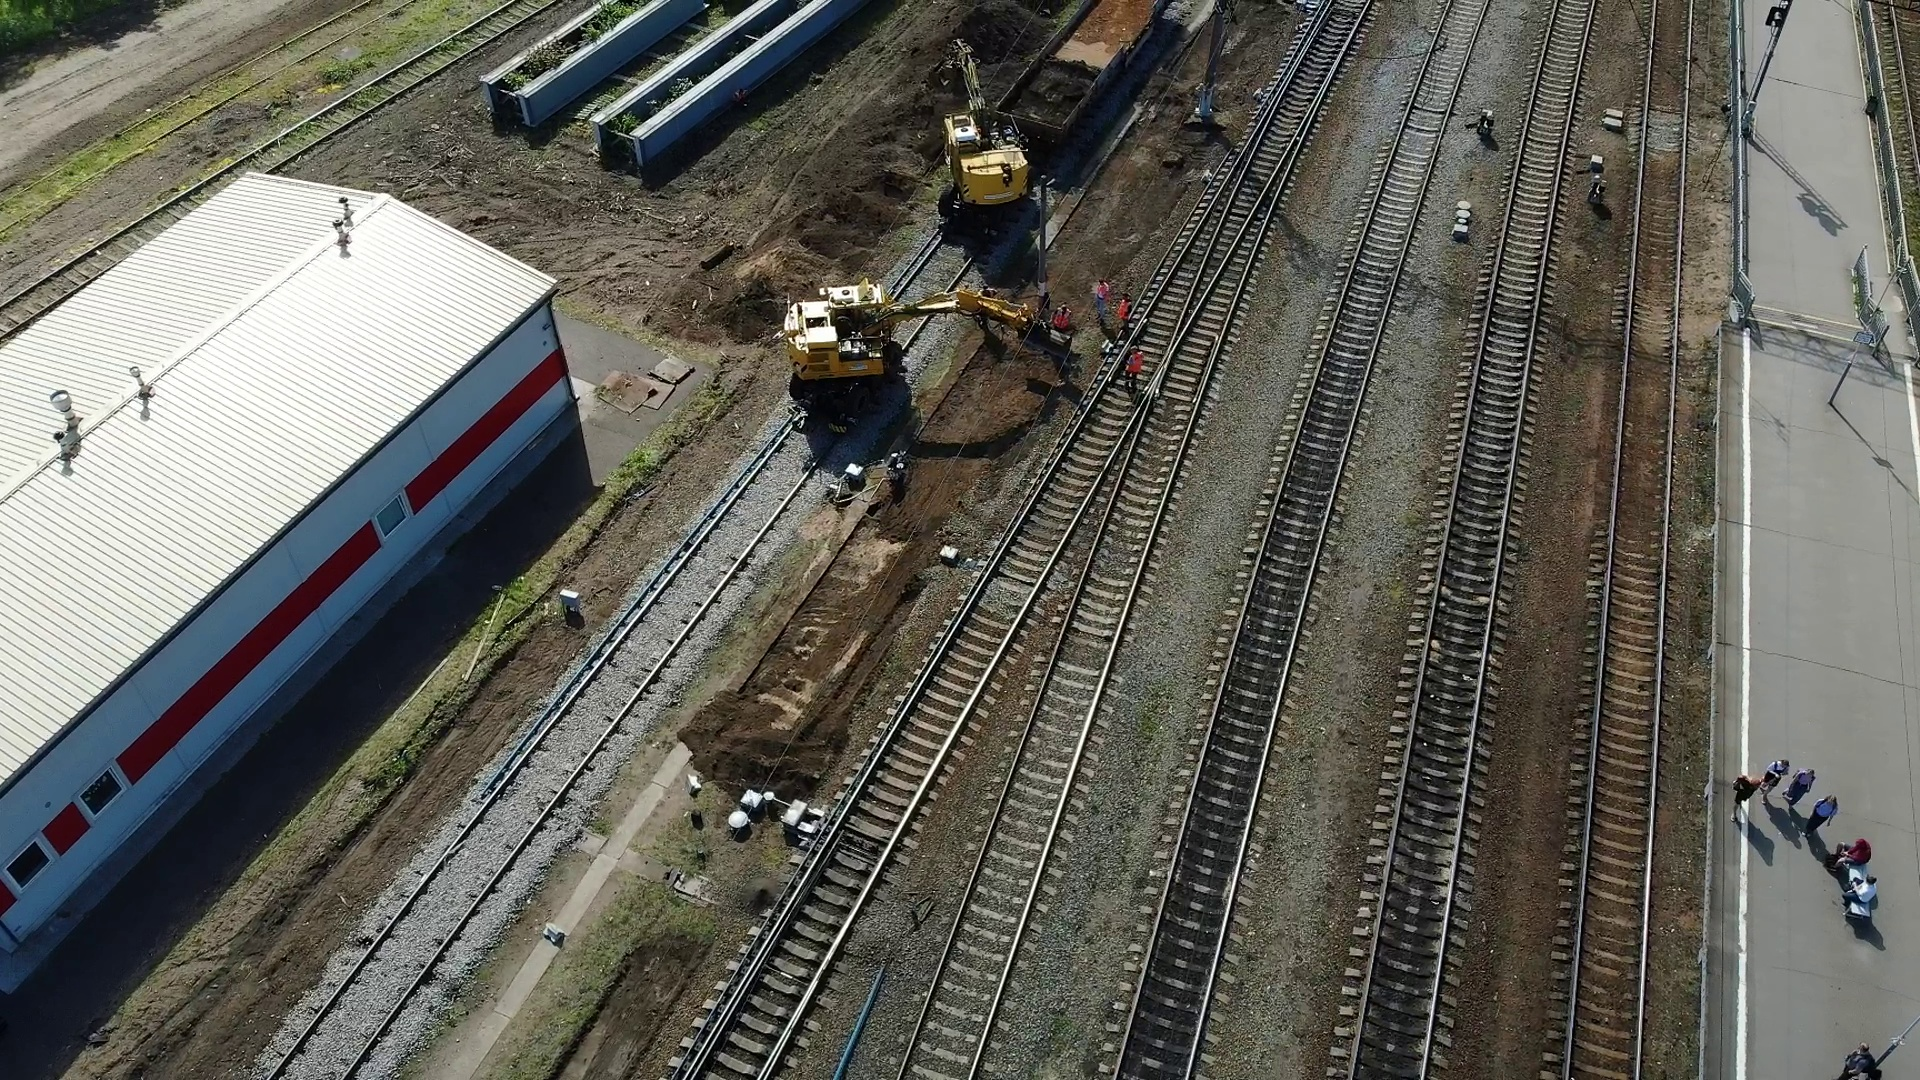kjtv: (781, 272, 915, 406), (940, 108, 1030, 240)
